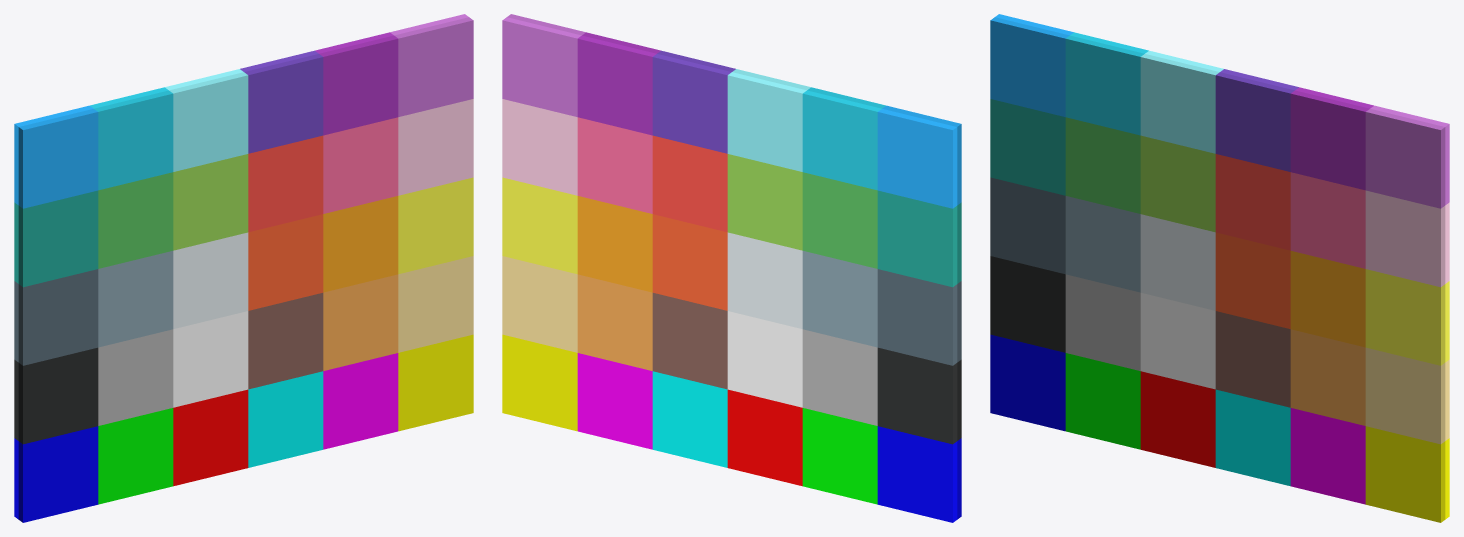
File: blocks_from_unity.glb
3 views of the same model, side by side, from view 1: azimuth 30°, elevation 25°; view 2: azimuth 150°, elevation 25°; view 3: azimuth 330°, elevation 25° (orthographic).
Parts seen in each view (by area): view 1: Block Color Lit, Block Color Unlit; view 2: Block Color Unlit, Block Color Lit; view 3: Block Color Lit, Block Color Unlit.
Boxes of the visible parts, x1=… form: Block Color Lit: x1=18, y1=17, x2=473, y2=522; Block Color Unlit: x1=14, y1=14, x2=468, y2=519; Block Color Unlit: x1=502, y1=17, x2=957, y2=522; Block Color Lit: x1=507, y1=14, x2=961, y2=519; Block Color Lit: x1=990, y1=17, x2=1445, y2=522; Block Color Unlit: x1=995, y1=14, x2=1449, y2=519.
Size of the model in its own units: 1.2 by 1 by 0.04.
